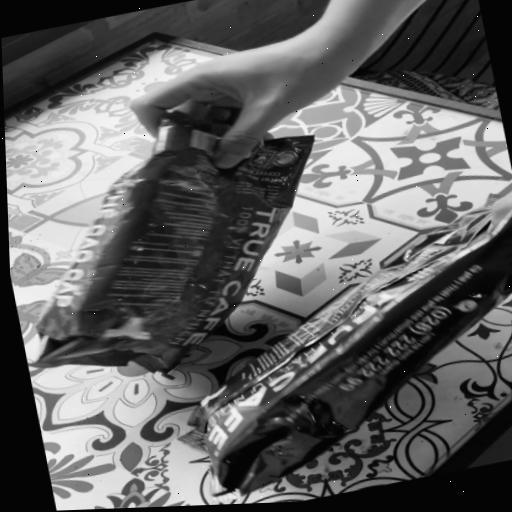cafe_hat: (179, 195, 512, 502)
cafe_xay: (32, 113, 313, 373)
